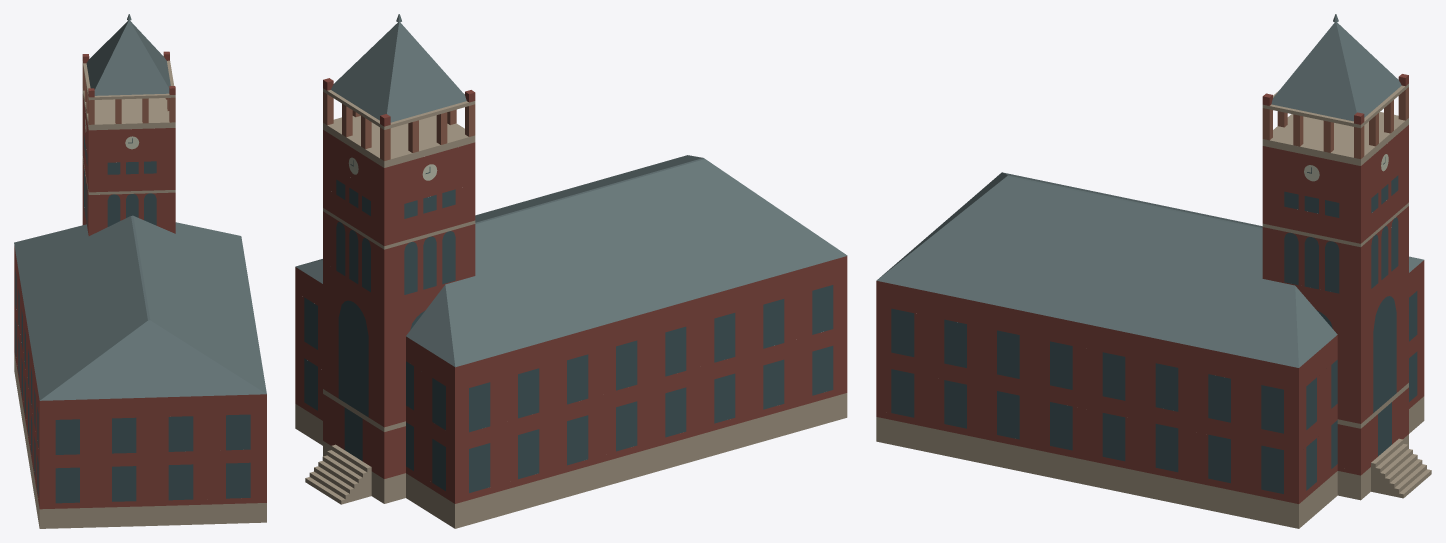
Rendered from red-brick-courthouse-rockville-near.glb.
3 renders of one model, left to right at view 1: azimuth 30°, elevation 25°; view 2: azimuth 150°, elevation 25°; view 3: azimuth 270°, elevation 25°, orthographic. The views are drawn at different scales.
Parts seen in each view (by area): view 1: red-brick-courthouse-rockville-0-slate, red-brick-courthouse-rockville-0-brick, red-brick-courthouse-rockville-0-glass, red-brick-courthouse-rockville-0-stone, red-brick-courthouse-rockville-0-column; view 2: red-brick-courthouse-rockville-0-brick, red-brick-courthouse-rockville-0-slate, red-brick-courthouse-rockville-0-glass, red-brick-courthouse-rockville-0-stone, red-brick-courthouse-rockville-0-column; view 3: red-brick-courthouse-rockville-0-brick, red-brick-courthouse-rockville-0-slate, red-brick-courthouse-rockville-0-glass, red-brick-courthouse-rockville-0-stone, red-brick-courthouse-rockville-0-column.
Part boxes in pixels (x1=…): red-brick-courthouse-rockville-0-slate: x1=14, y1=14, x2=266, y2=400; red-brick-courthouse-rockville-0-brick: x1=14, y1=51, x2=266, y2=509; red-brick-courthouse-rockville-0-glass: x1=15, y1=125, x2=250, y2=503; red-brick-courthouse-rockville-0-stone: x1=14, y1=60, x2=266, y2=528; red-brick-courthouse-rockville-0-column: x1=82, y1=64, x2=175, y2=124; red-brick-courthouse-rockville-0-brick: x1=295, y1=78, x2=847, y2=503; red-brick-courthouse-rockville-0-slate: x1=295, y1=14, x2=847, y2=367; red-brick-courthouse-rockville-0-glass: x1=304, y1=160, x2=833, y2=492; red-brick-courthouse-rockville-0-stone: x1=295, y1=88, x2=847, y2=528; red-brick-courthouse-rockville-0-column: x1=323, y1=92, x2=475, y2=160; red-brick-courthouse-rockville-0-brick: x1=876, y1=74, x2=1424, y2=503; red-brick-courthouse-rockville-0-slate: x1=877, y1=14, x2=1423, y2=367; red-brick-courthouse-rockville-0-glass: x1=891, y1=157, x2=1417, y2=493; red-brick-courthouse-rockville-0-stone: x1=876, y1=83, x2=1431, y2=528; red-brick-courthouse-rockville-0-column: x1=1262, y1=87, x2=1408, y2=159.
Bounding box in the file's own units: 30.54 × 33.1 × 36.59.
